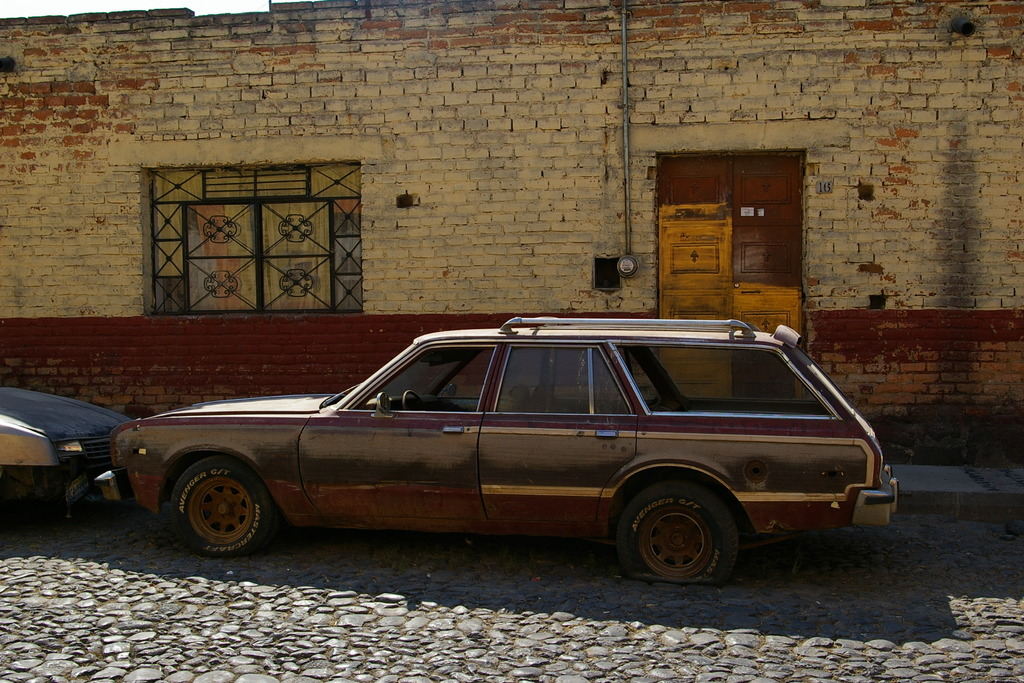Car: (110, 315, 901, 586), (0, 388, 128, 527)
